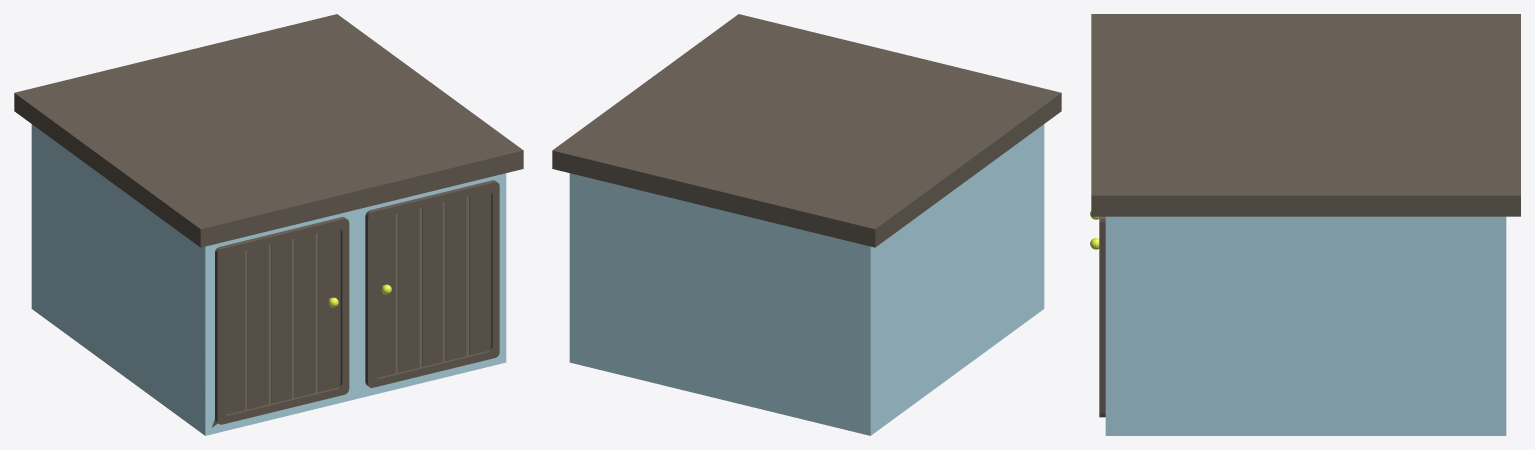
File: Countertop.fbx
The picture shows the model from 3 angles, left to right: view 1: azimuth 30°, elevation 25°; view 2: azimuth 150°, elevation 25°; view 3: azimuth 270°, elevation 25°; orthographic projection. The views are drawn at different scales.
Visible parts, largest first — view 1: Countertop; view 2: Countertop; view 3: Countertop.
Boxes of the visible parts, x1=… form: Countertop: x1=14, y1=14, x2=523, y2=435; Countertop: x1=552, y1=14, x2=1061, y2=435; Countertop: x1=1090, y1=14, x2=1520, y2=435.
Bounding box in the file's own units: 173 × 109 × 173.
